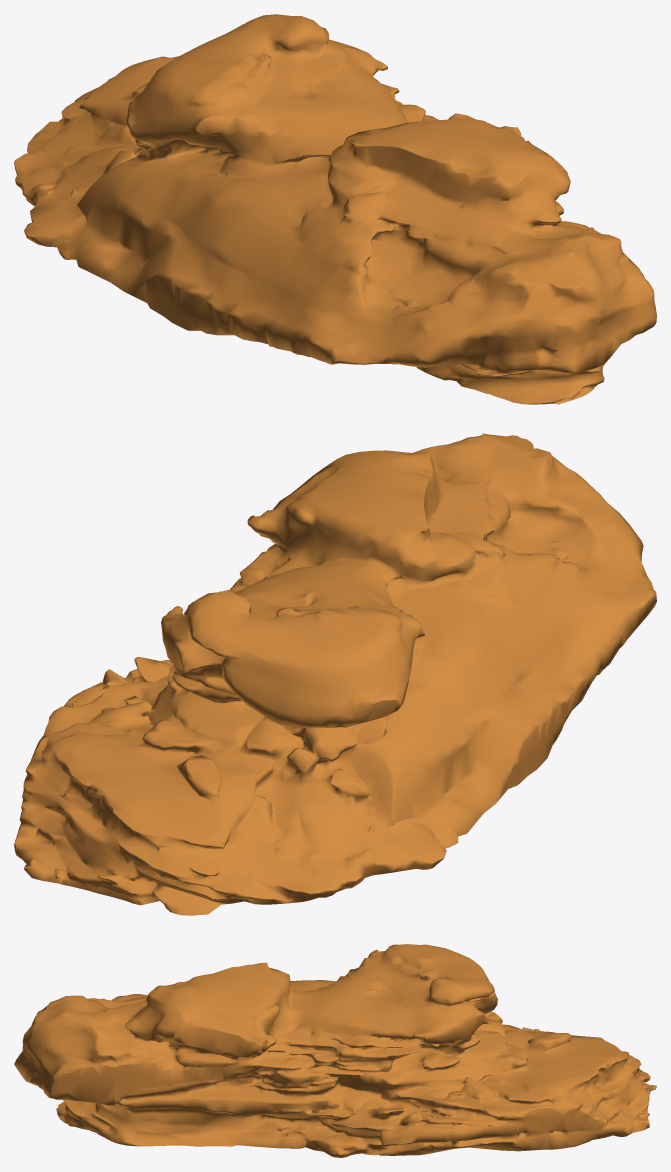
Rendered from MSH_Rocks_Boulder_18.FBX.
The picture shows the model from 3 angles, top to bottom: view 1: azimuth 30°, elevation 25°; view 2: azimuth 150°, elevation 25°; view 3: azimuth 270°, elevation 25°; orthographic projection. The views are drawn at different scales.
Visible parts, largest first — view 1: MESH_LOD0; view 2: MESH_LOD0; view 3: MESH_LOD0.
Boxes of the visible parts, <box> form: MESH_LOD0: <box>14,14,656,404</box>; MESH_LOD0: <box>14,433,656,915</box>; MESH_LOD0: <box>14,944,656,1157</box>.
Size of what is drawn, in the model's own units: 176 by 78.1 by 344.
